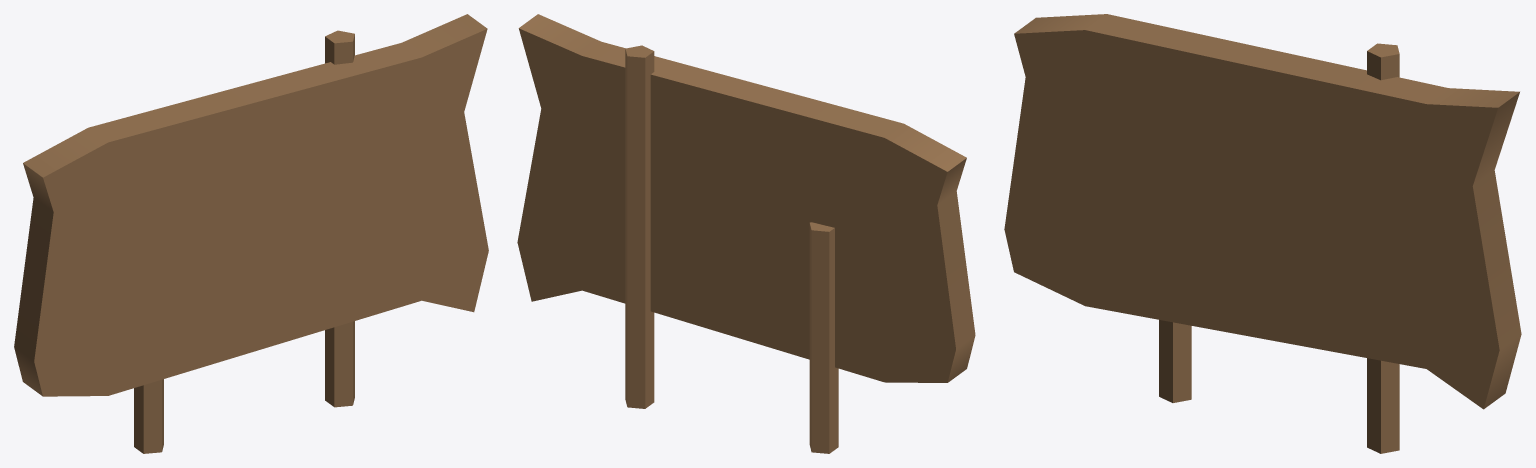
The model's file is Sign.fbx.
The picture shows the model from 3 angles, left to right: view 1: azimuth 30°, elevation 25°; view 2: azimuth 150°, elevation 25°; view 3: azimuth 330°, elevation 25°; orthographic projection. The views are drawn at different scales.
Parts seen in each view (by area): view 1: Sign; view 2: Sign; view 3: Sign.
Boxes of the visible parts, left/top/right/bottom form: Sign: left=14, top=14, right=488, bottom=453; Sign: left=517, top=14, right=975, bottom=453; Sign: left=1004, top=14, right=1521, bottom=453.
Bounding box in the file's own units: 6.52 × 4.99 × 0.7136.
